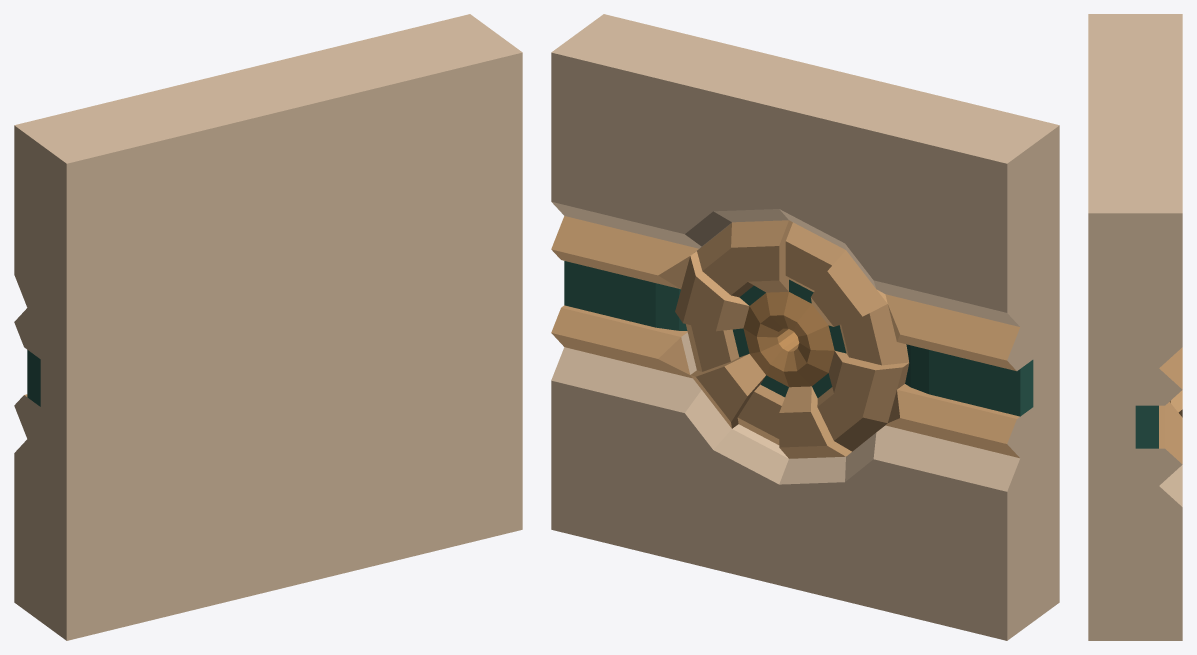
Rendered from Puzzle_Wall_Conduit_Emitter_Straight.fbx.
The picture shows the model from 3 angles, left to right: view 1: azimuth 30°, elevation 25°; view 2: azimuth 150°, elevation 25°; view 3: azimuth 270°, elevation 25°; orthographic projection. The views are drawn at different scales.
Parts seen in each view (by area): view 1: Sandstone_Trim.Sandstone_Trim.Sandstone_Trim.Sandstone_Trim.; view 2: Sandstone_Trim.Sandstone_Trim.Sandstone_Trim.Sandstone_Trim., Sandstone_5.Sandstone_5.Sandstone_5.Sandstone_5.Sandstone_5, Sandstone_5.Sandstone_5.Sandstone_5.Sandstone_5.Sandstone_5., Sandstone_6.Sandstone_6.Sandstone_6.Sandstone_6.Sandstone_6., object1, object2, object4; view 3: Sandstone_Trim.Sandstone_Trim.Sandstone_Trim.Sandstone_Trim., Sandstone_5.Sandstone_5.Sandstone_5.Sandstone_5.Sandstone_5., object2, Sandstone_5.Sandstone_5.Sandstone_5.Sandstone_5.Sandstone_5.
Boxes of the visible parts, x1=… form: Sandstone_Trim.Sandstone_Trim.Sandstone_Trim.Sandstone_Trim.: x1=14, y1=14, x2=522, y2=640; Sandstone_Trim.Sandstone_Trim.Sandstone_Trim.Sandstone_Trim.: x1=551, y1=14, x2=1059, y2=640; Sandstone_5.Sandstone_5.Sandstone_5.Sandstone_5.Sandstone_5: x1=675, y1=220, x2=909, y2=458; Sandstone_5.Sandstone_5.Sandstone_5.Sandstone_5.Sandstone_5.: x1=551, y1=216, x2=1020, y2=458; Sandstone_6.Sandstone_6.Sandstone_6.Sandstone_6.Sandstone_6.: x1=743, y1=292, x2=834, y2=387; object1: x1=905, y1=344, x2=1033, y2=416; object2: x1=564, y1=261, x2=687, y2=330; object4: x1=733, y1=279, x2=846, y2=397; Sandstone_Trim.Sandstone_Trim.Sandstone_Trim.Sandstone_Trim.: x1=1088, y1=14, x2=1182, y2=640; Sandstone_5.Sandstone_5.Sandstone_5.Sandstone_5.Sandstone_5.: x1=1159, y1=347, x2=1182, y2=463; object2: x1=1135, y1=405, x2=1158, y2=448; Sandstone_5.Sandstone_5.Sandstone_5.Sandstone_5.Sandstone_5: x1=1169, y1=390, x2=1182, y2=417.
Bounding box in the file's own units: 1 × 1 × 0.2.
